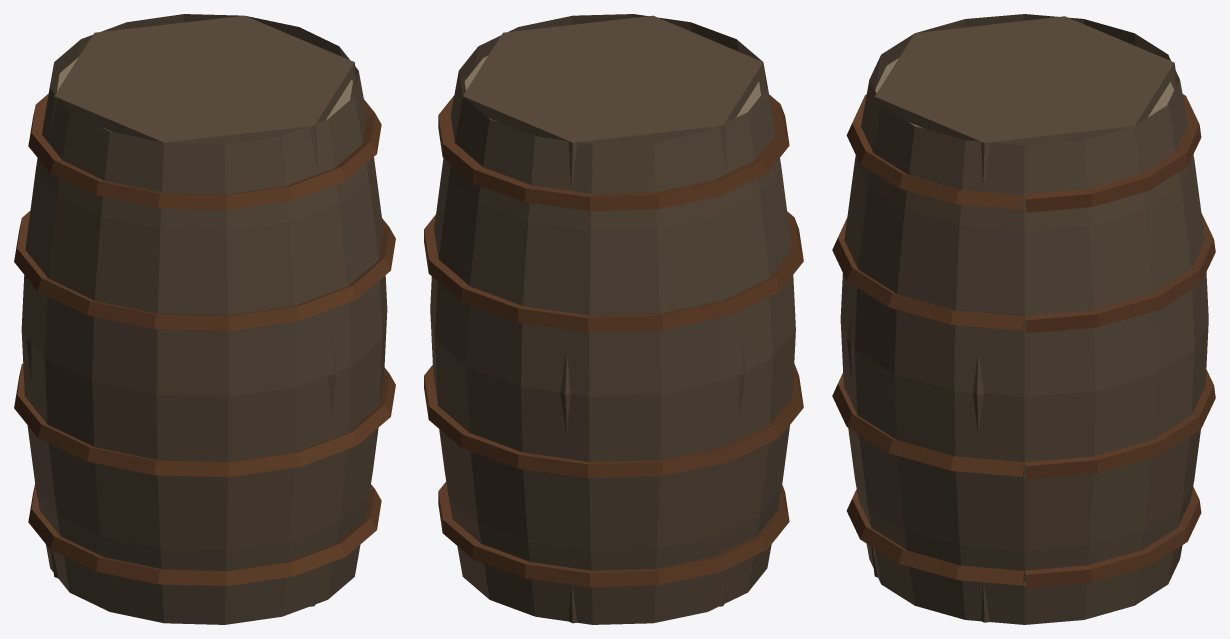
Rendered from homestead_barrel.glb.
The picture shows the model from 3 angles, left to right: view 1: azimuth 30°, elevation 25°; view 2: azimuth 150°, elevation 25°; view 3: azimuth 270°, elevation 25°; orthographic projection.
Parts seen in each view (by area): view 1: HomesteadBarrel_Staves, HomesteadBarrel_Far, HomesteadBarrel_Hoop0.60, HomesteadBarrel_Hoop0.82, HomesteadBarrel_Hoop0.32, HomesteadBarrel_Hoop0.10; view 2: HomesteadBarrel_Staves, HomesteadBarrel_Far, HomesteadBarrel_Hoop0.60, HomesteadBarrel_Hoop0.82, HomesteadBarrel_Hoop0.32, HomesteadBarrel_Hoop0.10; view 3: HomesteadBarrel_Staves, HomesteadBarrel_Far, HomesteadBarrel_Hoop0.60, HomesteadBarrel_Hoop0.82, HomesteadBarrel_Hoop0.32, HomesteadBarrel_Hoop0.10.
Boxes of the visible parts, left/top/right/bottom form: HomesteadBarrel_Staves: left=21, top=14, right=387, bottom=624; HomesteadBarrel_Far: left=26, top=15, right=356, bottom=606; HomesteadBarrel_Hoop0.60: left=14, top=211, right=395, bottom=330; HomesteadBarrel_Hoop0.82: left=28, top=94, right=381, bottom=209; HomesteadBarrel_Hoop0.32: left=14, top=363, right=395, bottom=477; HomesteadBarrel_Hoop0.10: left=28, top=483, right=381, bottom=585; HomesteadBarrel_Staves: left=430, top=14, right=795, bottom=624; HomesteadBarrel_Far: left=463, top=15, right=766, bottom=623; HomesteadBarrel_Hoop0.60: left=424, top=211, right=803, bottom=332; HomesteadBarrel_Hoop0.82: left=438, top=94, right=789, bottom=211; HomesteadBarrel_Hoop0.32: left=424, top=364, right=803, bottom=478; HomesteadBarrel_Hoop0.10: left=438, top=481, right=789, bottom=587; HomesteadBarrel_Staves: left=840, top=14, right=1208, bottom=624; HomesteadBarrel_Far: left=847, top=16, right=1176, bottom=622; HomesteadBarrel_Hoop0.60: left=832, top=213, right=1215, bottom=333; HomesteadBarrel_Hoop0.82: left=846, top=94, right=1201, bottom=212; HomesteadBarrel_Hoop0.32: left=832, top=369, right=1215, bottom=479; HomesteadBarrel_Hoop0.10: left=846, top=486, right=1201, bottom=587.
Size of the model in its own units: 0.6684 by 0.92 by 0.6667.
